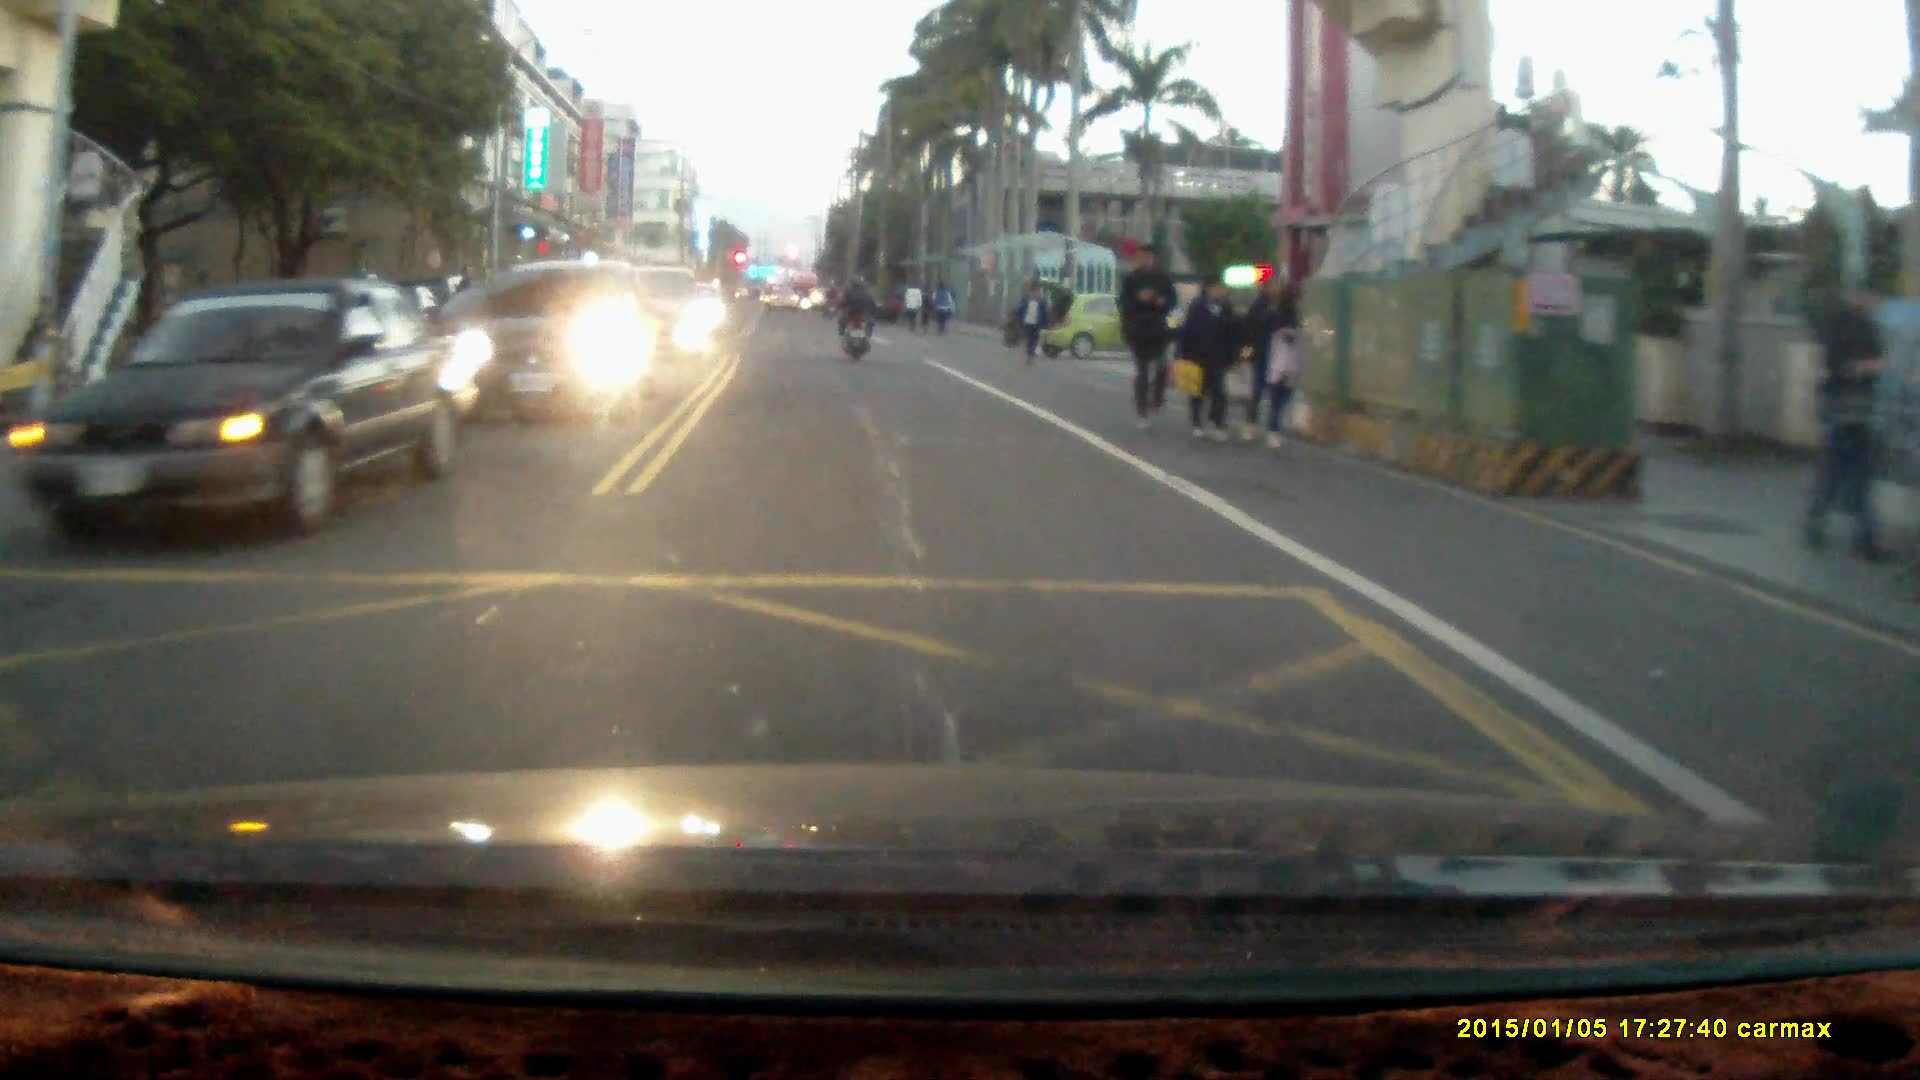pedestrian: (1803, 274, 1895, 574), (1117, 238, 1179, 432), (1181, 277, 1246, 446), (1243, 272, 1303, 451), (1014, 280, 1046, 367)
rider: (834, 272, 875, 364)
vehicle: (33, 280, 462, 549), (444, 259, 658, 423), (1030, 276, 1185, 364), (608, 268, 709, 368)
